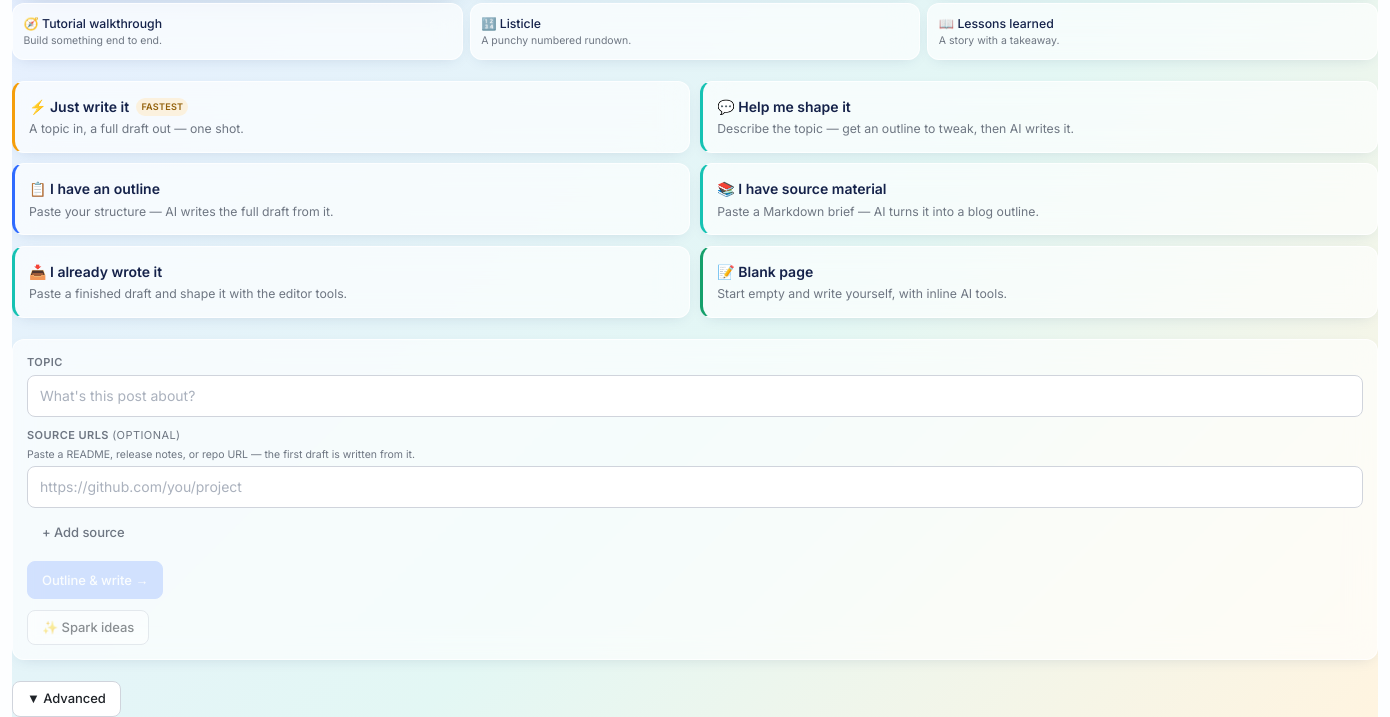
Test: ComposeStudio › uses the server preference instead of a stale browser provider
(page scrolled)
Click the button "▼ Advanced" at point(66, 699), box [12,681,121,716]
(page scrolled)
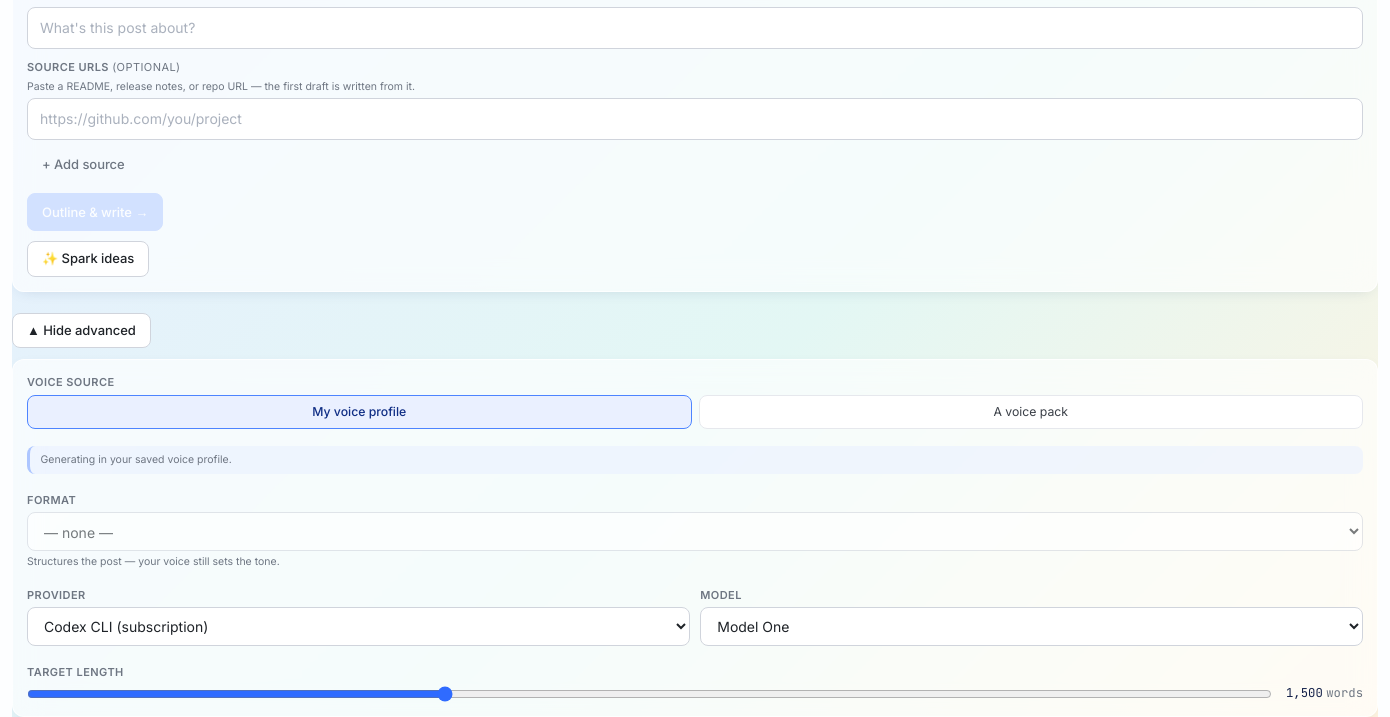
Now the dropdown labelled "Provider" shows "Codex CLI (subscription)", box [27,607,690,646]
